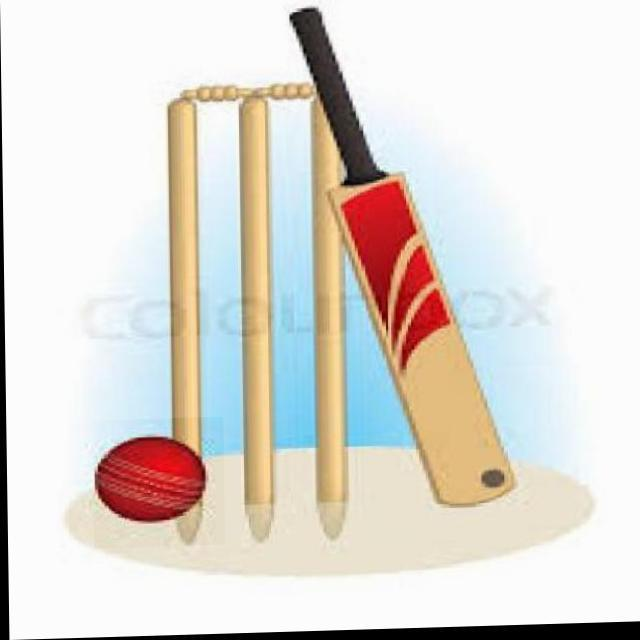-: (91, 418, 223, 549)
